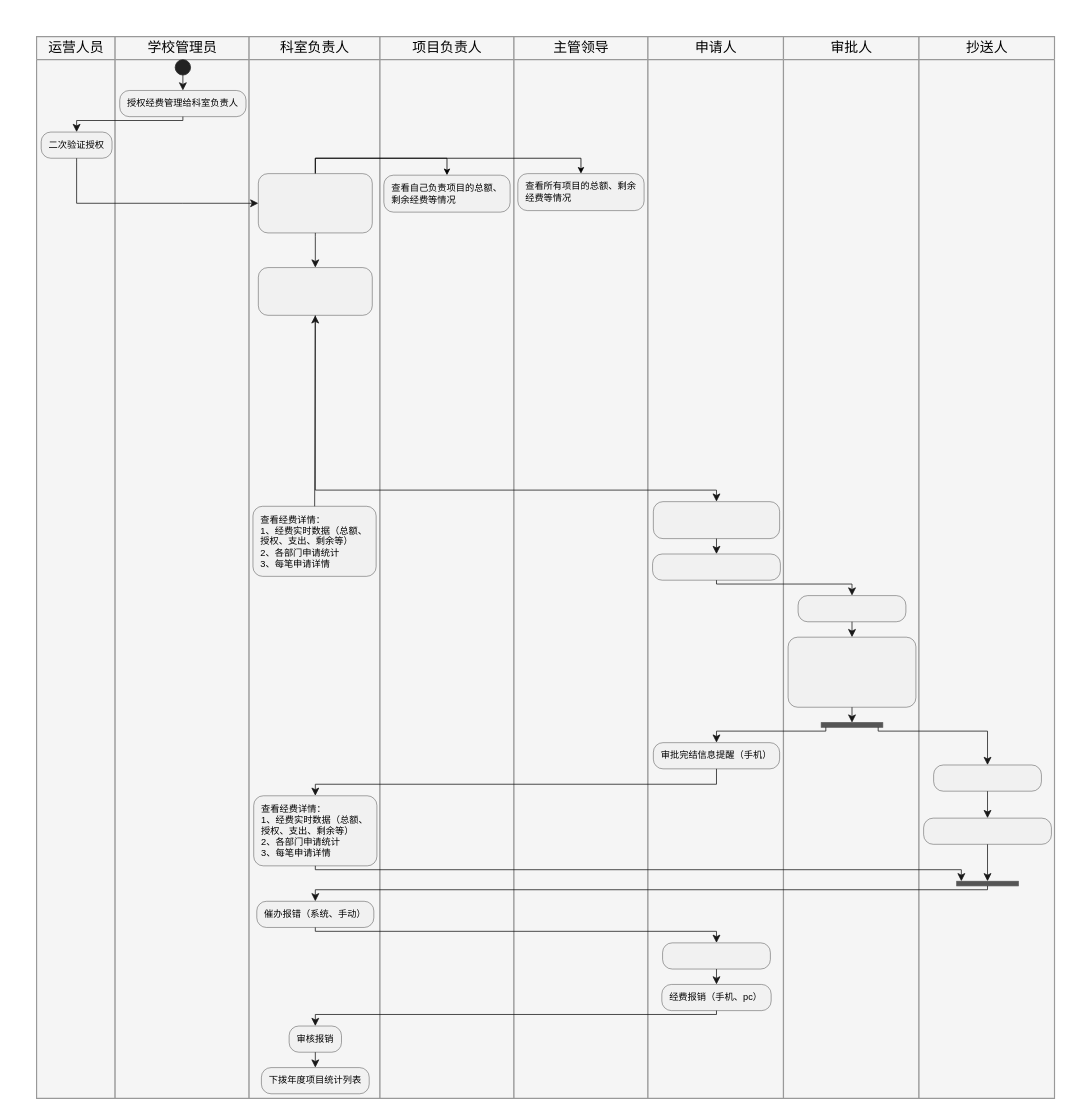
Image size: 1068x1112. Some labels were removed from this diagram. Here are the shapes that lost their labels. From the top down, the centre of each, then its label:
the point at 315,203: 基础设置： 1、设置项目类型、分类 2、设置经费用途 3、设置审批流程
the point at 315,291: 发布经费项目： 1、项目内容 2、选择审批流程
the point at 716,519: 查看所在部门可申请的经费 项目（手机、pc）
the point at 716,566: 发起经费申请（手机、pc）
the point at 852,608: 收到待审提醒（手机）
the point at 852,672: 审批经费申请（手机、pc） 支持上级审批、项目负责人 审批、职位审批、跨校审批 等，可按申请金额做条件审 批
the point at 987,777: 抄送信息提醒（手机）
the point at 987,831: 查看申请详情（手机、pc）
the point at 716,955: 收到报销提醒（手机）
